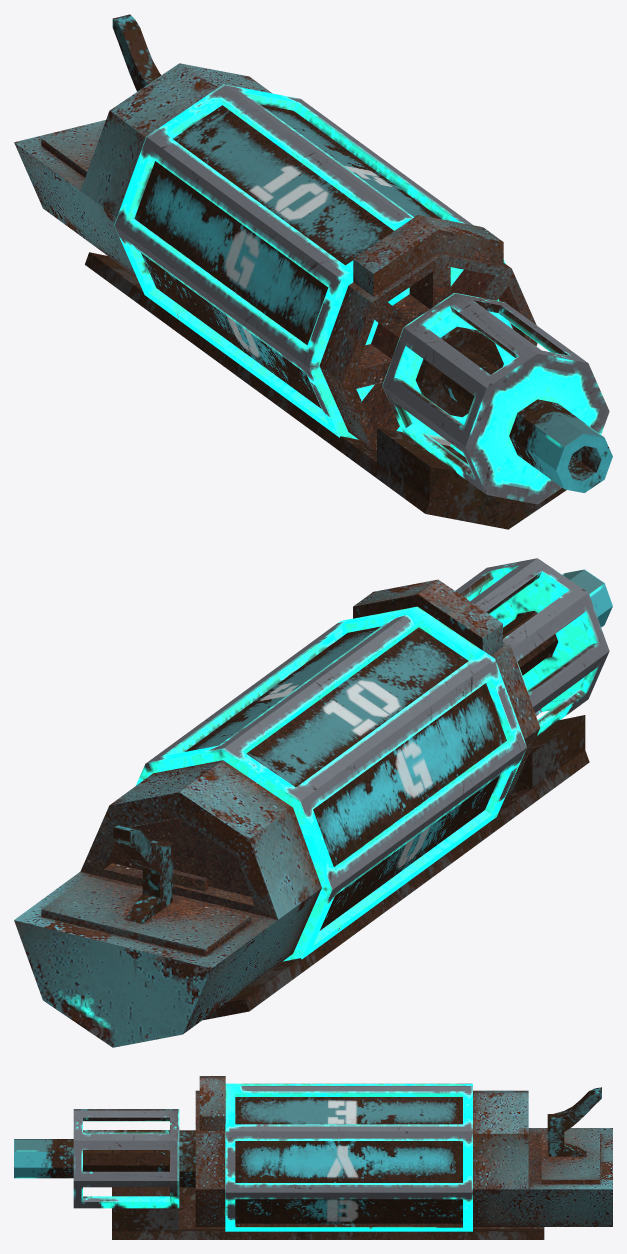
File: revseperated.fbx
3 views of the same model, one above another, from view 1: azimuth 30°, elevation 25°; view 2: azimuth 150°, elevation 25°; view 3: azimuth 270°, elevation 25° (orthographic). The views are drawn at different scales.
Parts seen in each view (by area): view 1: Cylinder.153, Cylinder.175, Cylinder.154, Cylinder.160; view 2: Cylinder.175, Cylinder.153, Cylinder.154, Cylinder.160; view 3: Cylinder.153, Cylinder.175, Cylinder.154, Cylinder.160.
Boxes of the visible parts, <box> form: Cylinder.153: <box>114,84,505,439</box>; Cylinder.175: <box>14,63,566,529</box>; Cylinder.154: <box>382,293,612,504</box>; Cylinder.160: <box>112,14,161,91</box>; Cylinder.175: <box>14,579,589,1047</box>; Cylinder.153: <box>136,606,526,961</box>; Cylinder.154: <box>455,558,612,735</box>; Cylinder.160: <box>113,825,173,923</box>; Cylinder.153: <box>225,1083,472,1231</box>; Cylinder.175: <box>112,1076,612,1239</box>; Cylinder.154: <box>14,1109,179,1208</box>; Cylinder.160: <box>547,1087,601,1156</box>.
Size of the model in its own units: 17.27 by 18.81 by 64.49.
